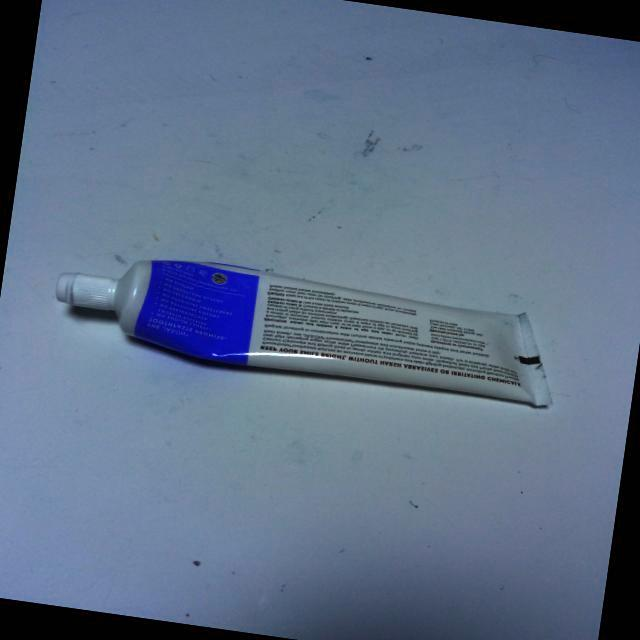plastic: (23, 224, 593, 461)
